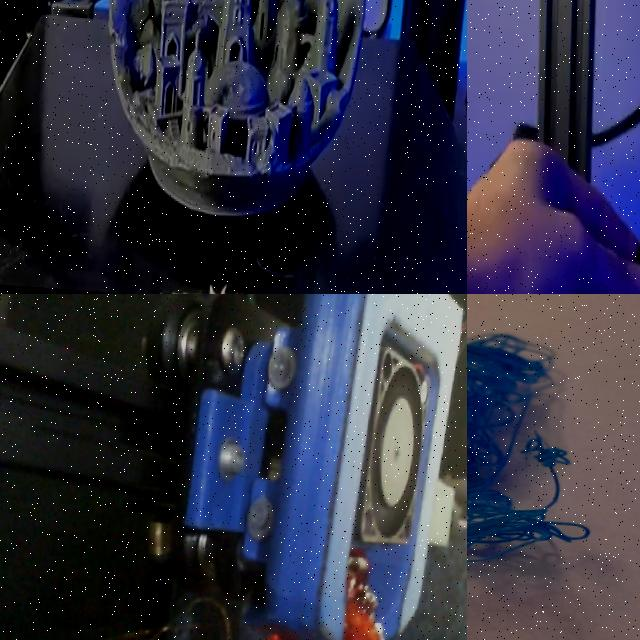spaghetti: (467, 317, 616, 608)
